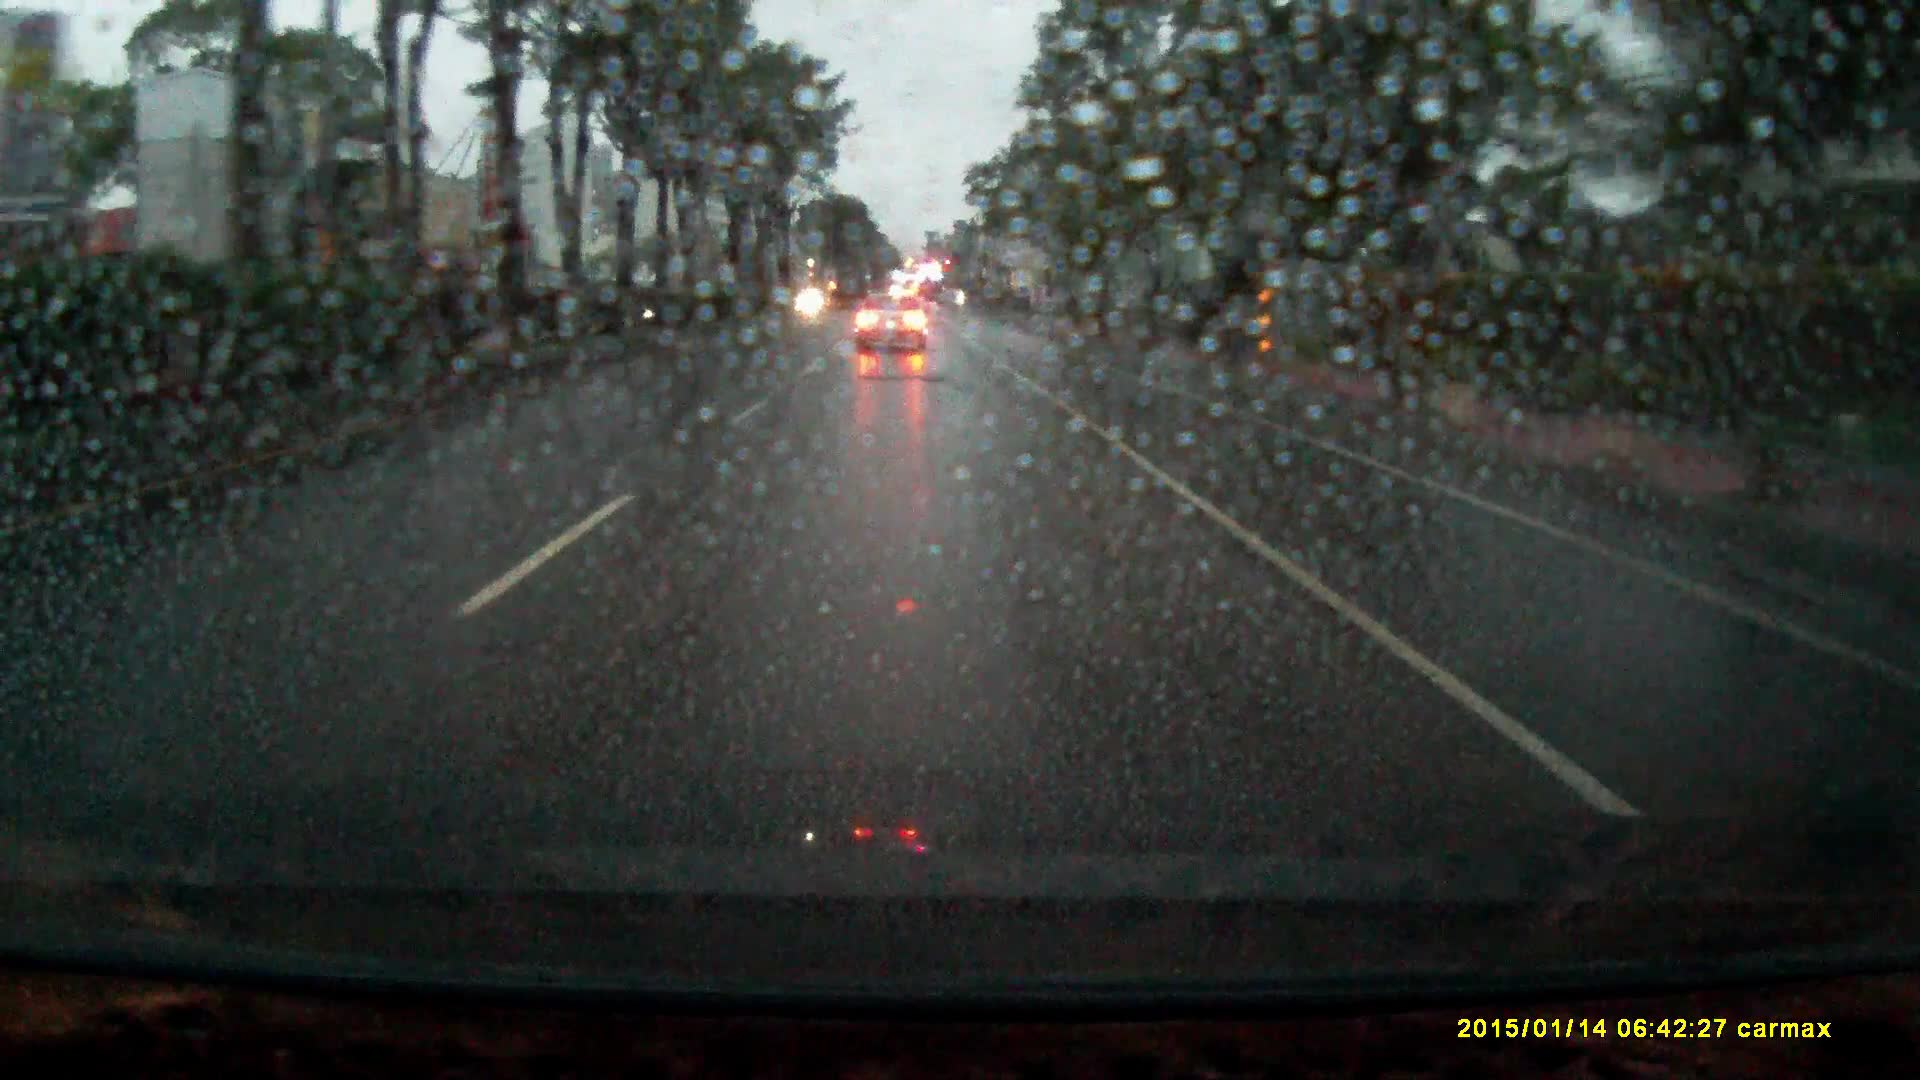vehicle: (853, 294, 931, 359)
